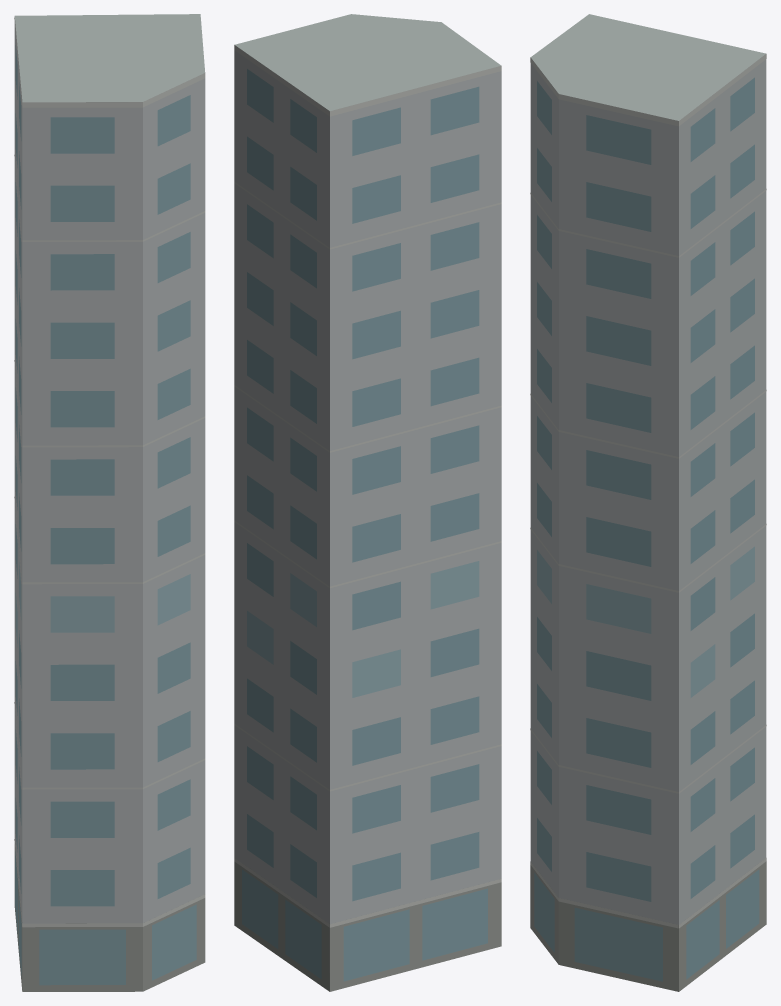
Rendered from survey-upis-32660281.glb.
3 views of the same model, side by side, from view 1: azimuth 30°, elevation 25°; view 2: azimuth 150°, elevation 25°; view 3: azimuth 270°, elevation 25° (orthographic). The views are drawn at different scales.
Parts seen in each view (by area): view 1: survey-upis-32660281.tmp; view 2: survey-upis-32660281.tmp; view 3: survey-upis-32660281.tmp.
Part boxes in pixels (x1=…): survey-upis-32660281.tmp: x1=14, y1=14, x2=205, y2=991; survey-upis-32660281.tmp: x1=234, y1=14, x2=501, y2=991; survey-upis-32660281.tmp: x1=530, y1=14, x2=766, y2=991.
Bounding box in the file's own units: 10.47 × 39.65 × 9.75.
